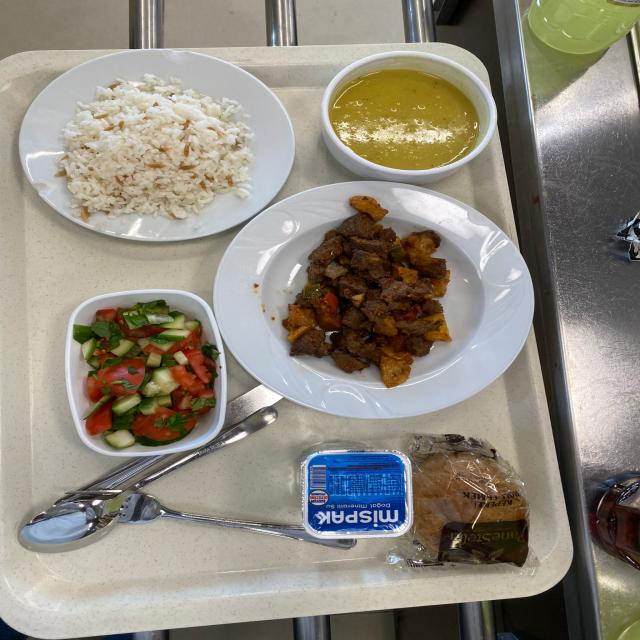ana_yemek: (278, 199, 507, 406), (43, 61, 263, 245)
corba: (325, 44, 499, 181)
yan_yemek: (67, 298, 218, 454)
